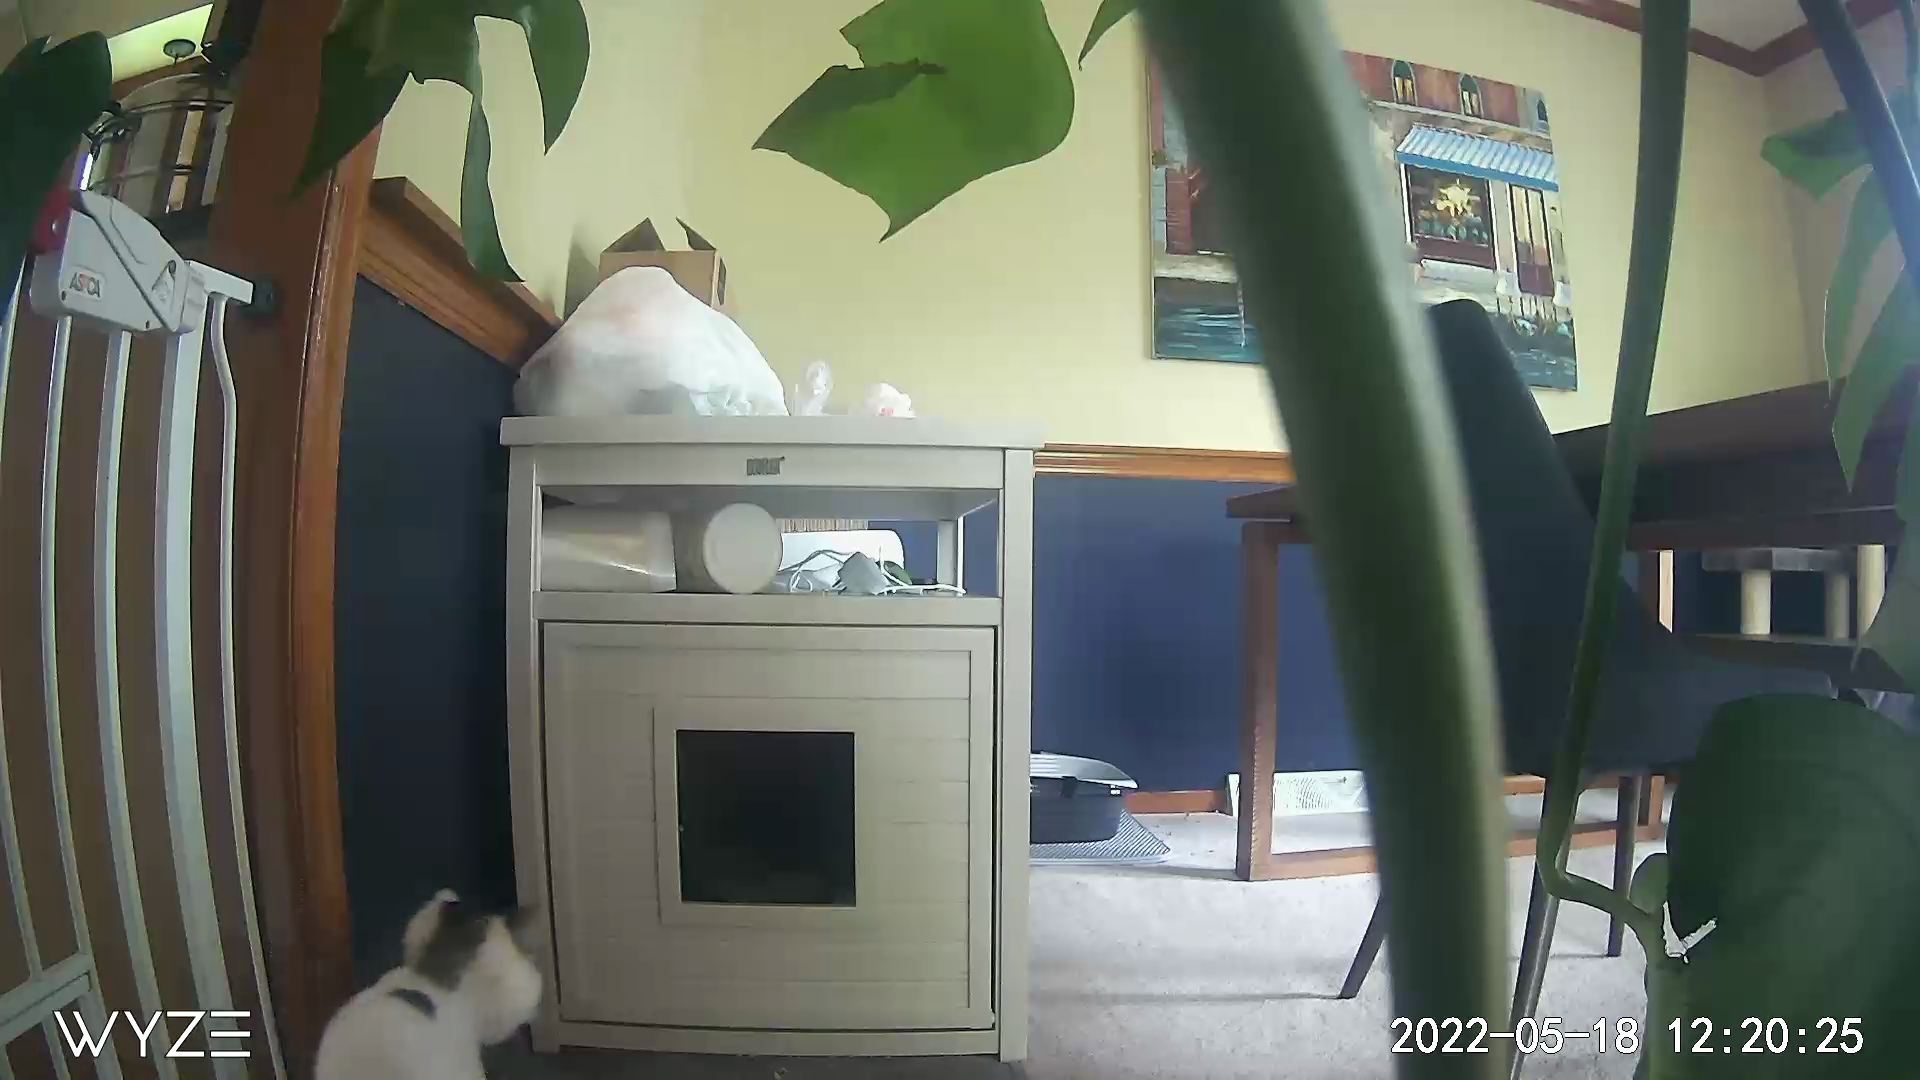maoxin: (320, 891, 543, 1080)
